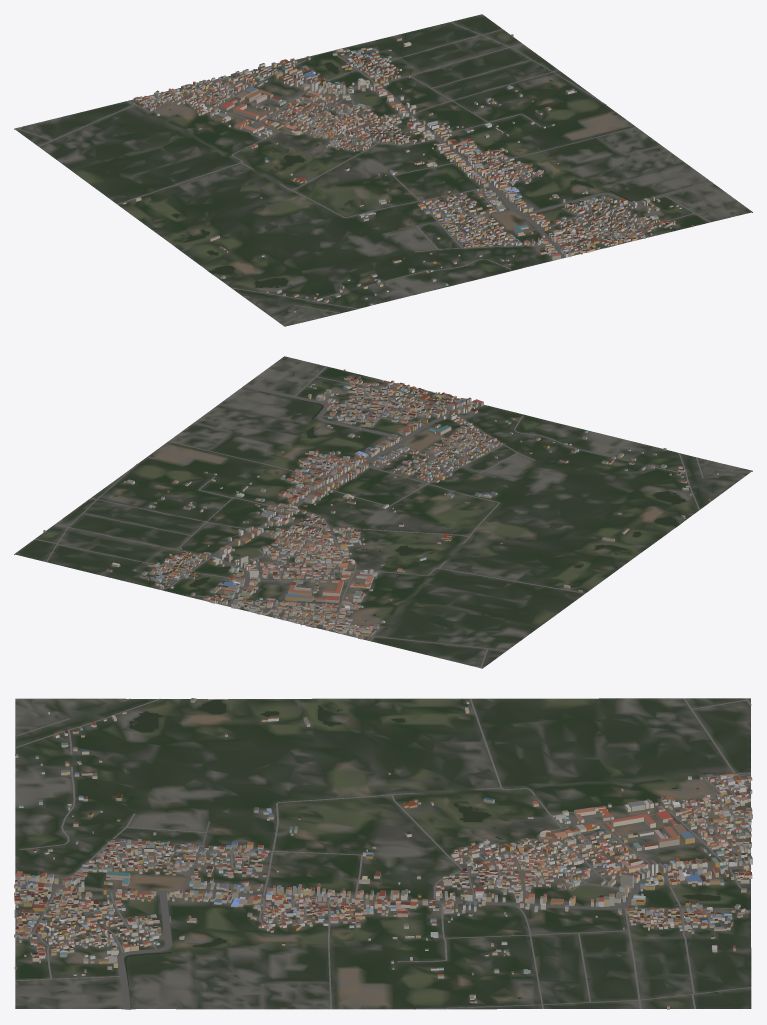
The picture shows the model from 3 angles, top to bottom: view 1: azimuth 30°, elevation 25°; view 2: azimuth 150°, elevation 25°; view 3: azimuth 270°, elevation 25°; orthographic projection. The views are drawn at different scales.
Parts seen in each view (by area): view 1: ground, buildings, roads, water; view 2: ground, buildings, roads, water; view 3: ground, buildings, roads, water.
Part boxes in pixels (x1,y1,x2,y2): ground: (14, 14, 752, 326); buildings: (122, 34, 693, 312); roads: (15, 22, 712, 313); water: (169, 62, 670, 287); ground: (14, 356, 752, 668); buildings: (43, 369, 718, 639); roads: (34, 366, 710, 667); water: (114, 387, 685, 621); ground: (15, 698, 751, 1009); buildings: (14, 698, 752, 1009); roads: (14, 698, 751, 1009); water: (124, 699, 720, 1009).
Bounding box in the file's own units: 1404 × 31.63 × 1408.
